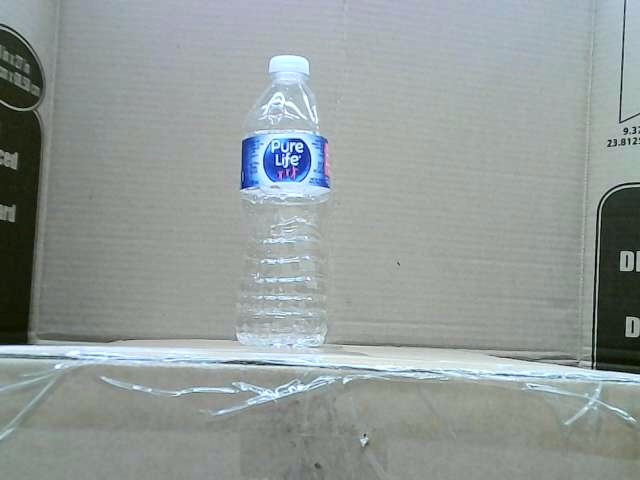WaterBottle: (236, 54, 332, 348)
